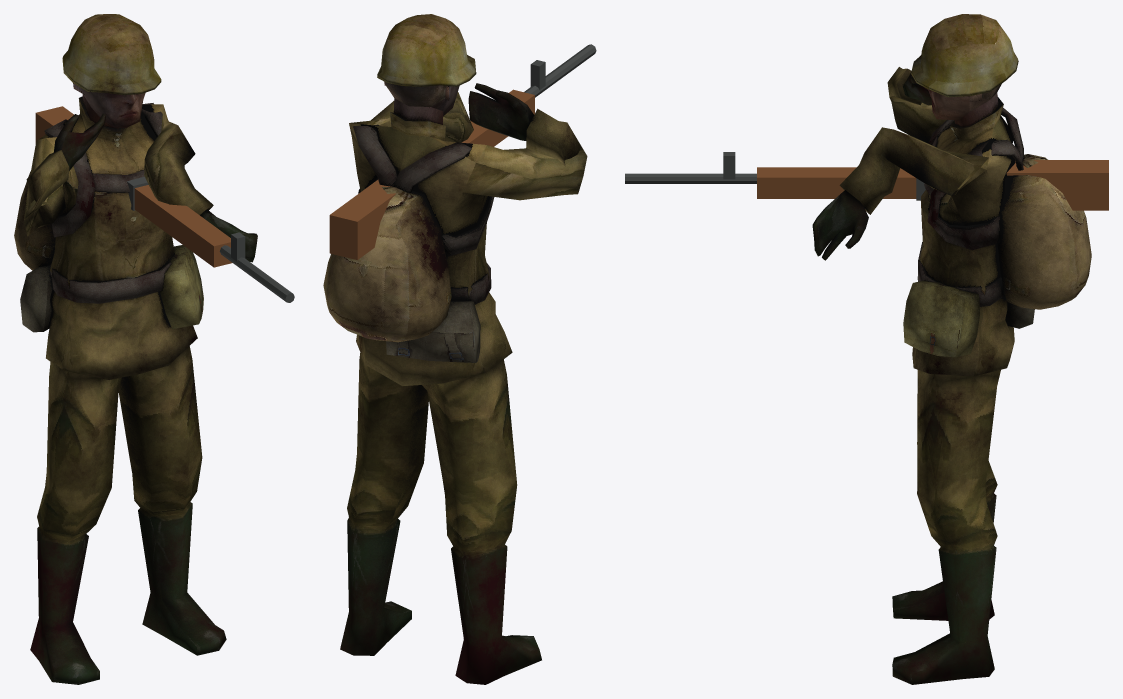
The model's file is soviet_ww2_soldier_fire_01.glb.
3 views of the same model, side by side, from view 1: azimuth 30°, elevation 25°; view 2: azimuth 150°, elevation 25°; view 3: azimuth 270°, elevation 25° (orthographic). The views are drawn at different scales.
Parts seen in each view (by area): view 1: final_Static, SovietRifle_Generated; view 2: final_Static, SovietRifle_Generated; view 3: final_Static, SovietRifle_Generated.
Part boxes in pixels (<box>): final_Static: <box>14,14,257,684</box>; SovietRifle_Generated: <box>35,106,294,302</box>; final_Static: <box>323,14,587,684</box>; SovietRifle_Generated: <box>329,44,596,259</box>; final_Static: <box>812,14,1091,684</box>; SovietRifle_Generated: <box>625,152,1108,210</box>.
Bounding box in the file's own units: 0.6149 × 1.75 × 1.23.
Materials: 3 (1 with a texture image).
